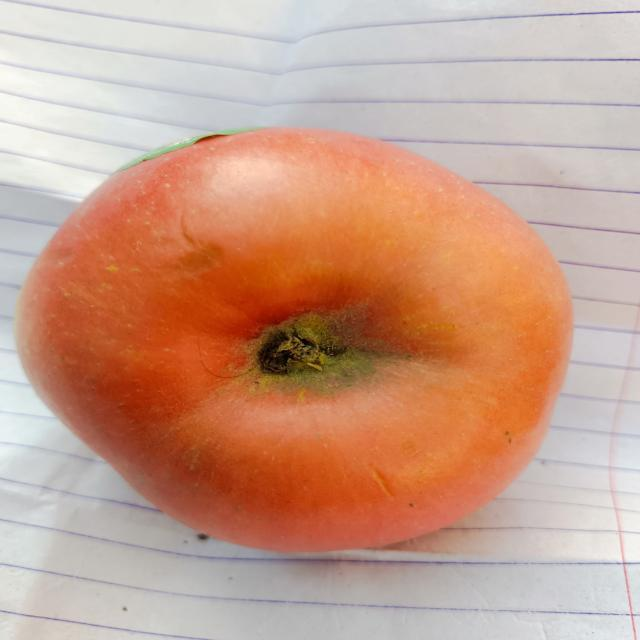Fresh Apple: (42, 135, 580, 545)
